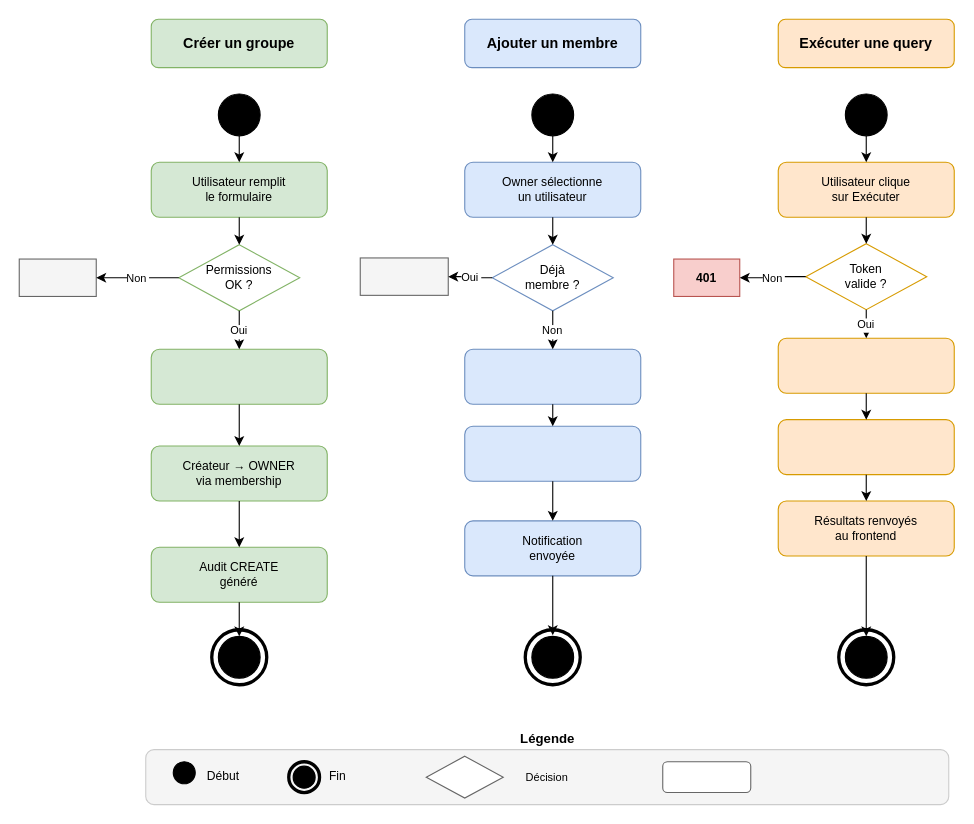
The diagram is 974 pixels wide and 824 high, and some of its shapes have lost their labels. The shapes that lost their labels are listed below. From the top down, each one's box as (x1, y1, x2, y2) in pixels, then its label:
(18, 258, 96, 296): Erreur
(359, 257, 448, 295): Doublon
(150, 348, 327, 404): Groupe enregistré dans MongoDB
(464, 348, 641, 404): Membership créé rôle MEMBER
(777, 337, 954, 393): Filtres récupérés depuis MongoDB
(464, 425, 641, 481): Audit ADD généré
(777, 419, 954, 475): Requête dynamique construite et lancée
(662, 761, 751, 793): Action
